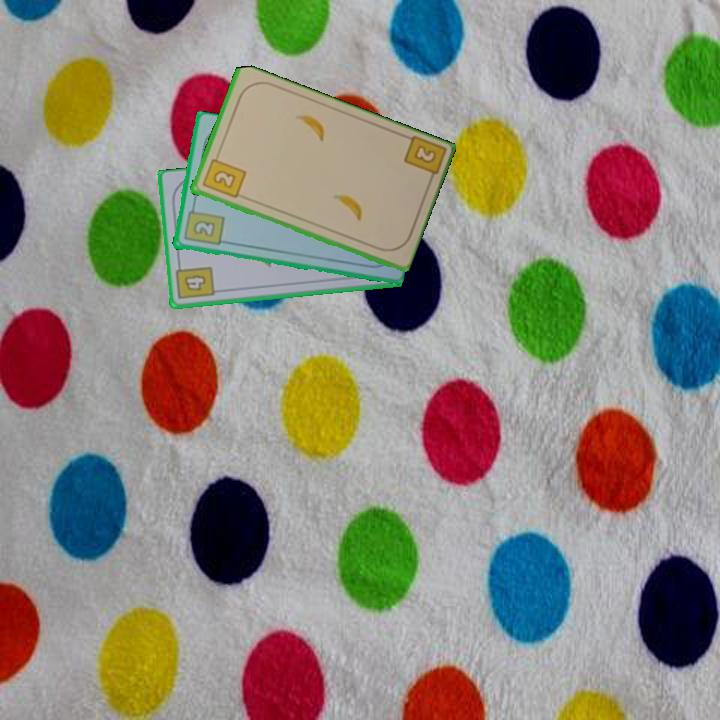2b: (199, 150, 248, 201), (400, 133, 446, 187), (180, 202, 226, 249)
4b: (173, 259, 217, 302)
